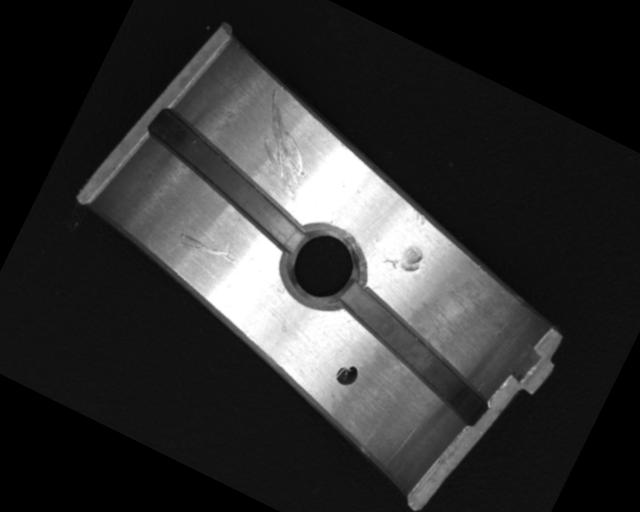blot: (332, 359, 362, 390)
bruise: (383, 235, 427, 277), (407, 207, 429, 228)
gap: (127, 103, 328, 253), (317, 280, 509, 429)
hole: (270, 214, 373, 321)
nick: (233, 89, 338, 206), (175, 226, 240, 269)
